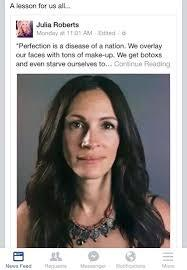No Mask: (45, 81, 157, 210), (18, 20, 32, 36)
